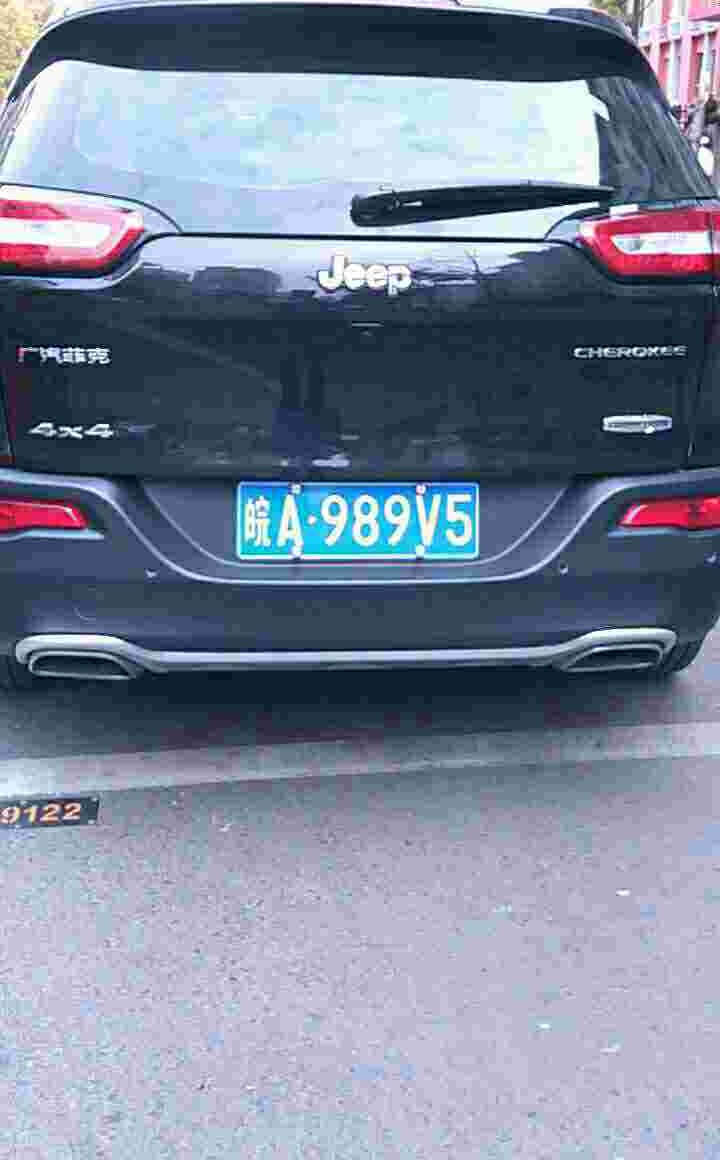plate: (239, 478, 487, 563)
